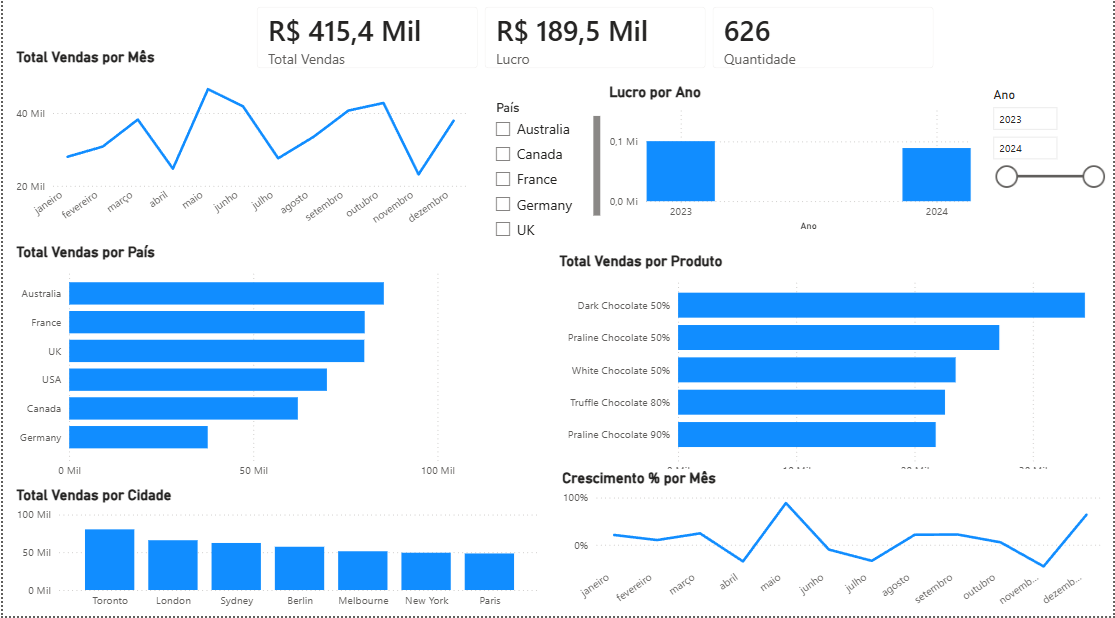

What the dashboard file says about the page in this screenshot:
{"tool":"powerbi","page":{"name":"Página 1","canvas":[1280,720],"ordinal":0},"visuals":[{"type":"lineChart","fields":{"Y":["calendar.Total Vendas"],"Category":["calendar.date.Variation.Hierarquia de datas.Mês"]},"box":[10.4,64.6,530.8,225],"z":0},{"type":"barChart","fields":{"Y":["calendar.Total Vendas"],"Category":["stores.country"]},"box":[10,290,516,280],"z":1000},{"type":"barChart","fields":{"Y":["calendar.Total Vendas"],"Category":["products.product_name"]},"box":[636.9,300,641.5,270],"z":2000},{"type":"slicer","fields":{"Values":["stores.country"]},"box":[556.2,120,138.5,169.6],"z":3000},{"type":"clusteredColumnChart","fields":{"Category":["calendar.date.Variation.Hierarquia de datas.Ano"],"Y":["calendar.Lucro"]},"box":[694.6,105,426.9,175.4],"z":4000},{"type":"lineChart","fields":{"Y":["calendar.Crescimento %"],"Category":["calendar.date.Variation.Hierarquia de datas.Mês"]},"box":[640.4,550.4,634.6,169.6],"z":5000},{"type":"clusteredColumnChart","fields":{"Category":["stores.city"],"Y":["calendar.Total Vendas"]},"box":[10.4,570,615,150],"z":6000},{"type":"slicer","fields":{"Values":["calendar.date.Variation.Hierarquia de datas.Ano"]},"box":[1129.6,105,150,184.6],"z":7000},{"type":"cardVisual","fields":{"Data":["calendar.Total Vendas","calendar.Lucro","calendar.Quantidade"]},"box":[275.8,0,815.8,105],"z":8000}]}

Visuals, with their boxes in screenshot pixels (x1, y1, x2, y2), scaled from the page's 1280x720 canvas onto the 1115x618 screenshot:
lineChart - calendar.Total Vendas x calendar.date.Variation.Hierarquia de datas.Mês: bbox(9, 55, 471, 249)
barChart - calendar.Total Vendas x stores.country: bbox(9, 249, 458, 489)
barChart - calendar.Total Vendas x products.product_name: bbox(555, 258, 1114, 489)
slicer - stores.country: bbox(485, 103, 605, 249)
clusteredColumnChart - calendar.date.Variation.Hierarquia de datas.Ano x calendar.Lucro: bbox(605, 90, 977, 241)
lineChart - calendar.Crescimento % x calendar.date.Variation.Hierarquia de datas.Mês: bbox(558, 472, 1111, 617)
clusteredColumnChart - stores.city x calendar.Total Vendas: bbox(9, 489, 545, 617)
slicer - calendar.date.Variation.Hierarquia de datas.Ano: bbox(984, 90, 1114, 249)
cardVisual - calendar.Total Vendas x calendar.Lucro: bbox(240, 0, 951, 90)
